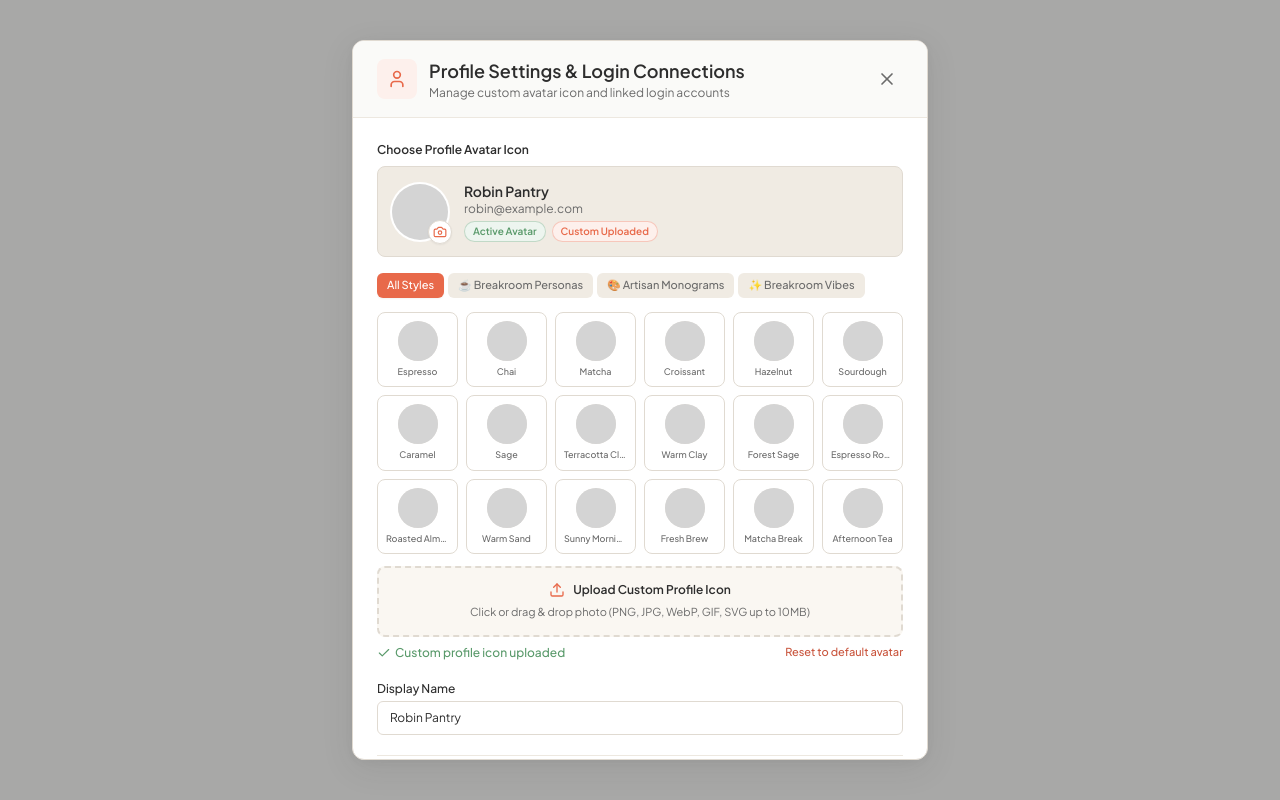
Test: User Profile Icon Upload vs URL Feature › UI Component: UserProfileModal › allows resetting a custom uploaded avatar back to the default avatar
Click the button "Reset to default avatar": (844, 653) 785,645 -> 903,660
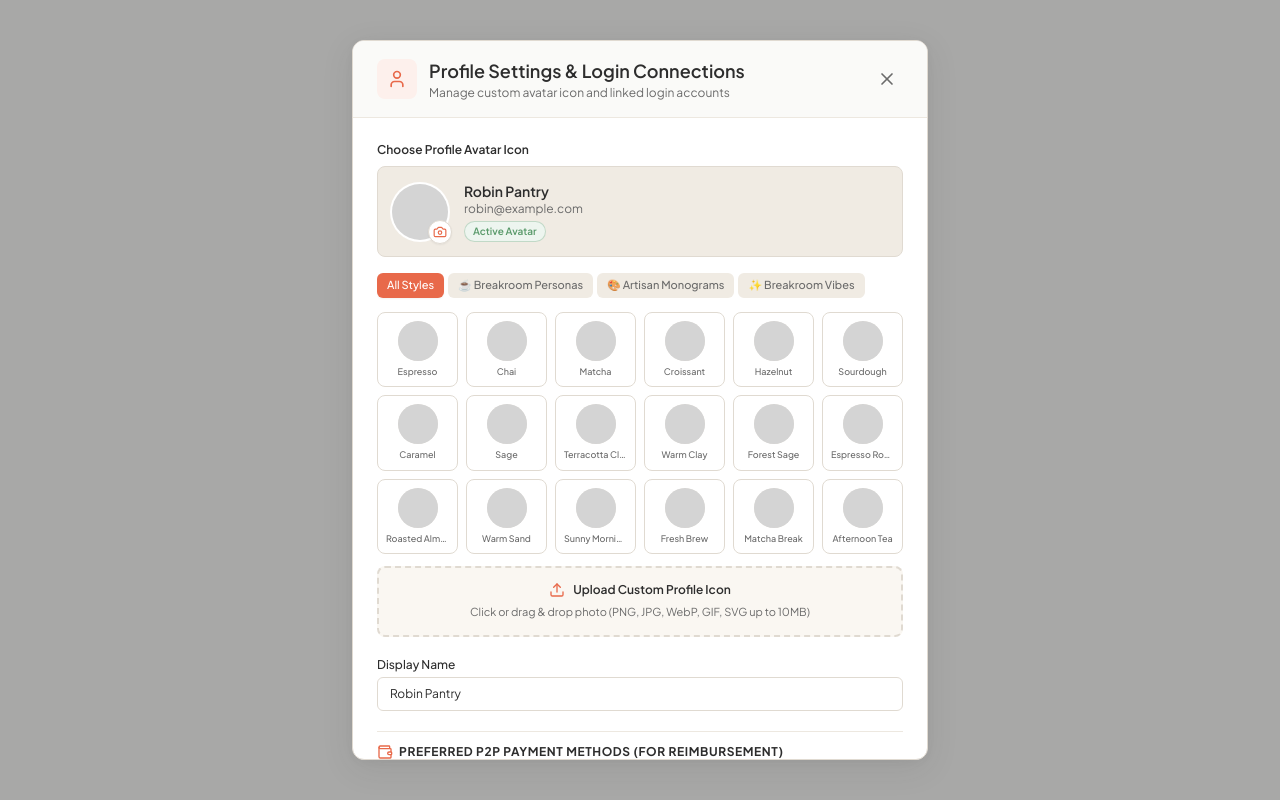
Check: the button "Reset to default avatar" is gone
